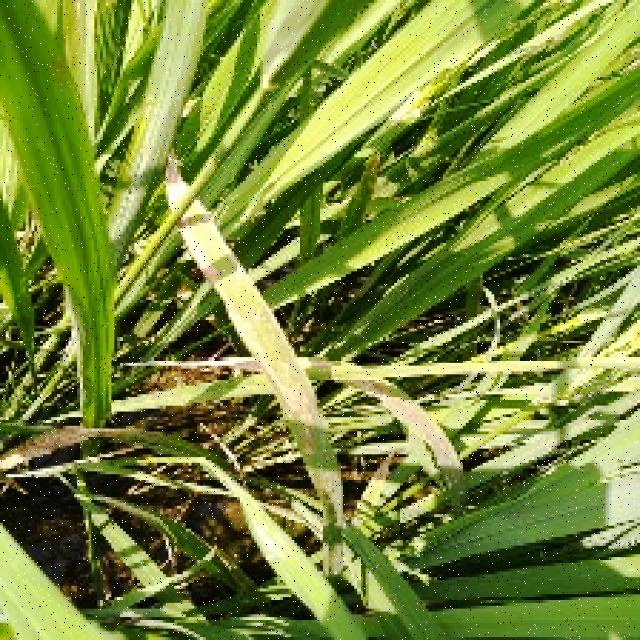health: (160, 0, 582, 144)
